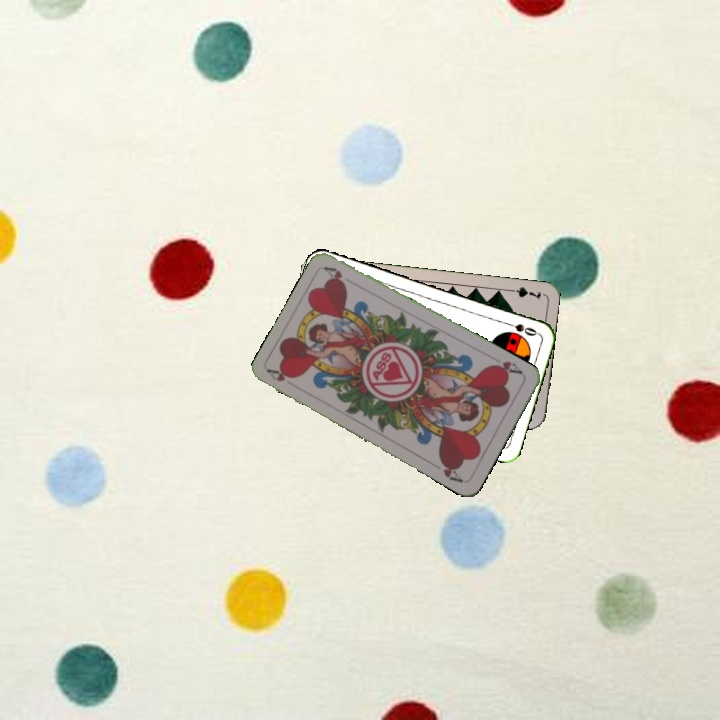G7: (503, 283, 544, 302)
HA: (264, 365, 302, 392), (486, 357, 526, 378)
SO: (500, 318, 540, 339)
